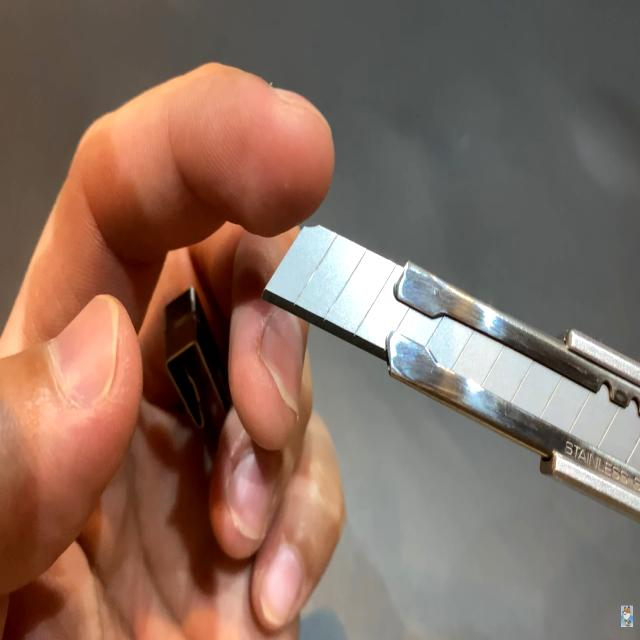cutter: (153, 36, 640, 582)
